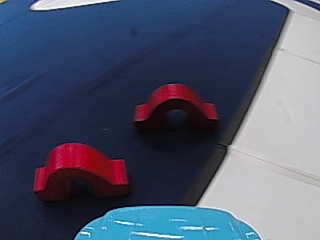bridge: (32, 142, 130, 199), (128, 80, 221, 132)
